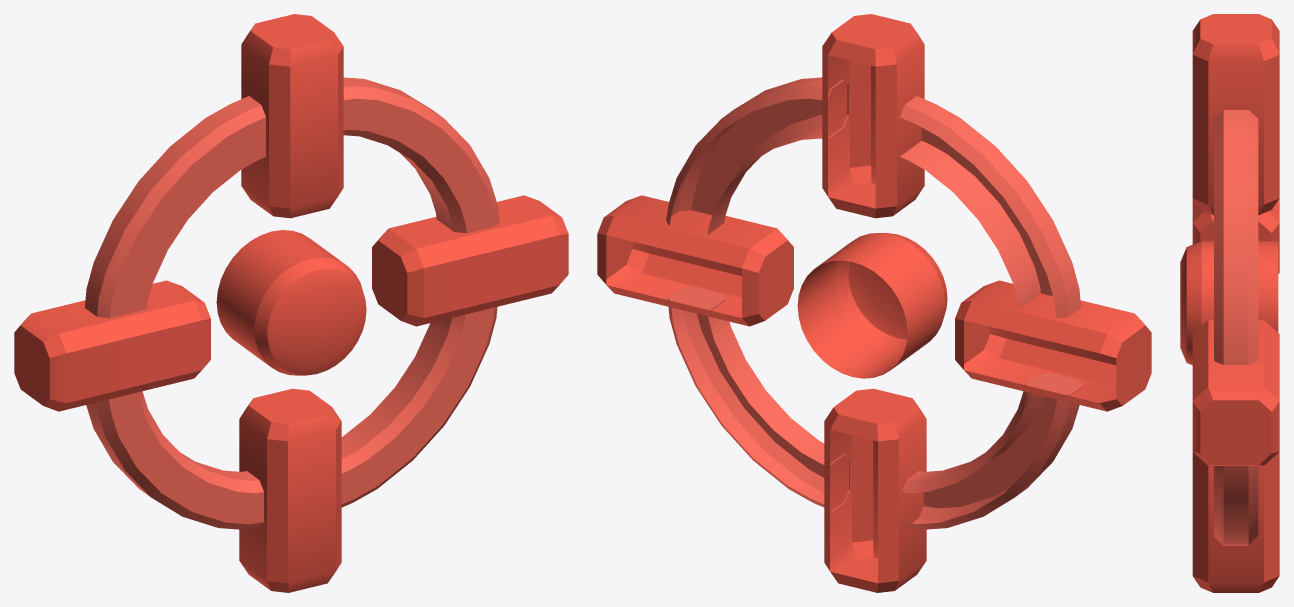
File: Target A Multi.fbx
The picture shows the model from 3 angles, left to right: view 1: azimuth 30°, elevation 25°; view 2: azimuth 150°, elevation 25°; view 3: azimuth 270°, elevation 25°; orthographic projection.
Visible parts, largest first — view 1: Target A; view 2: Target A; view 3: Target A.
Boxes of the visible parts, x1,y1,x2,y2 form: Target A: (14,14,568,592); Target A: (597,14,1151,592); Target A: (1180,14,1279,592).
Size of the model in its own units: 0.5102 by 0.5102 by 0.0836.
